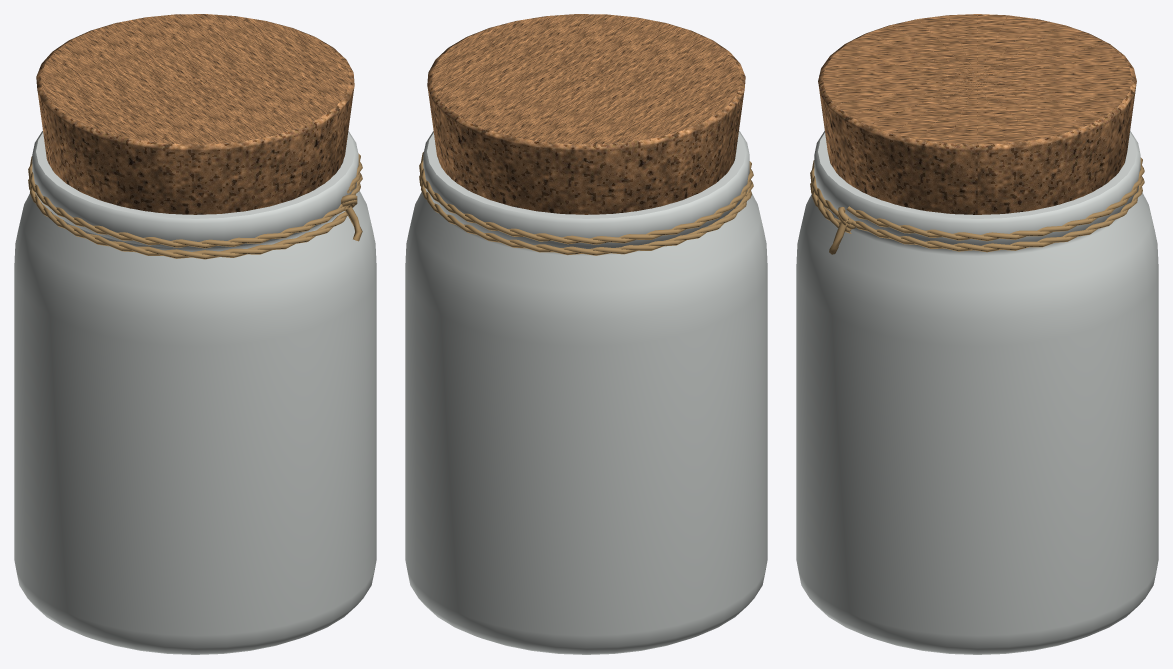
The model's file is jar.glb.
The picture shows the model from 3 angles, left to right: view 1: azimuth 30°, elevation 25°; view 2: azimuth 150°, elevation 25°; view 3: azimuth 270°, elevation 25°; orthographic projection.
Parts seen in each view (by area): view 1: jar_glass, jar_cork, jar_twine; view 2: jar_glass, jar_cork, jar_twine; view 3: jar_glass, jar_cork, jar_twine.
Part boxes in pixels (bbox=[...]): jar_glass: bbox=[14, 131, 376, 654]; jar_cork: bbox=[36, 14, 354, 214]; jar_twine: bbox=[28, 153, 362, 259]; jar_glass: bbox=[405, 131, 767, 654]; jar_cork: bbox=[427, 14, 745, 214]; jar_twine: bbox=[419, 152, 753, 255]; jar_glass: bbox=[796, 131, 1158, 654]; jar_cork: bbox=[818, 14, 1136, 214]; jar_twine: bbox=[810, 157, 1144, 254].
Size of the model in its own units: 0.15 by 0.233 by 0.15.
3 materials, 1 textured.
